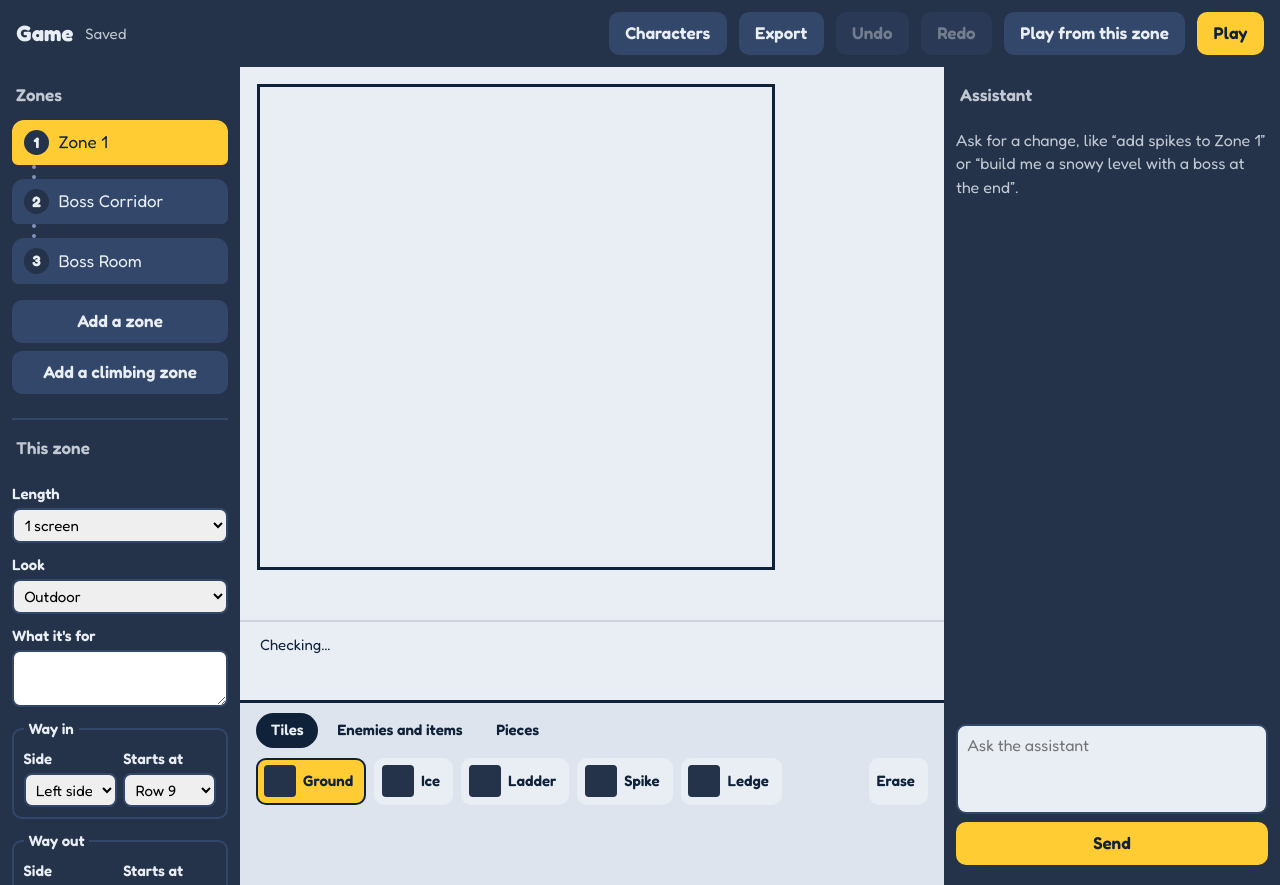
Scenario: the assistant in the editor › locks the level while it works, and Stop puts the level back
Type "Add spikes" into the text box named "Message" at (1112, 769), box [956,724,1268,814]
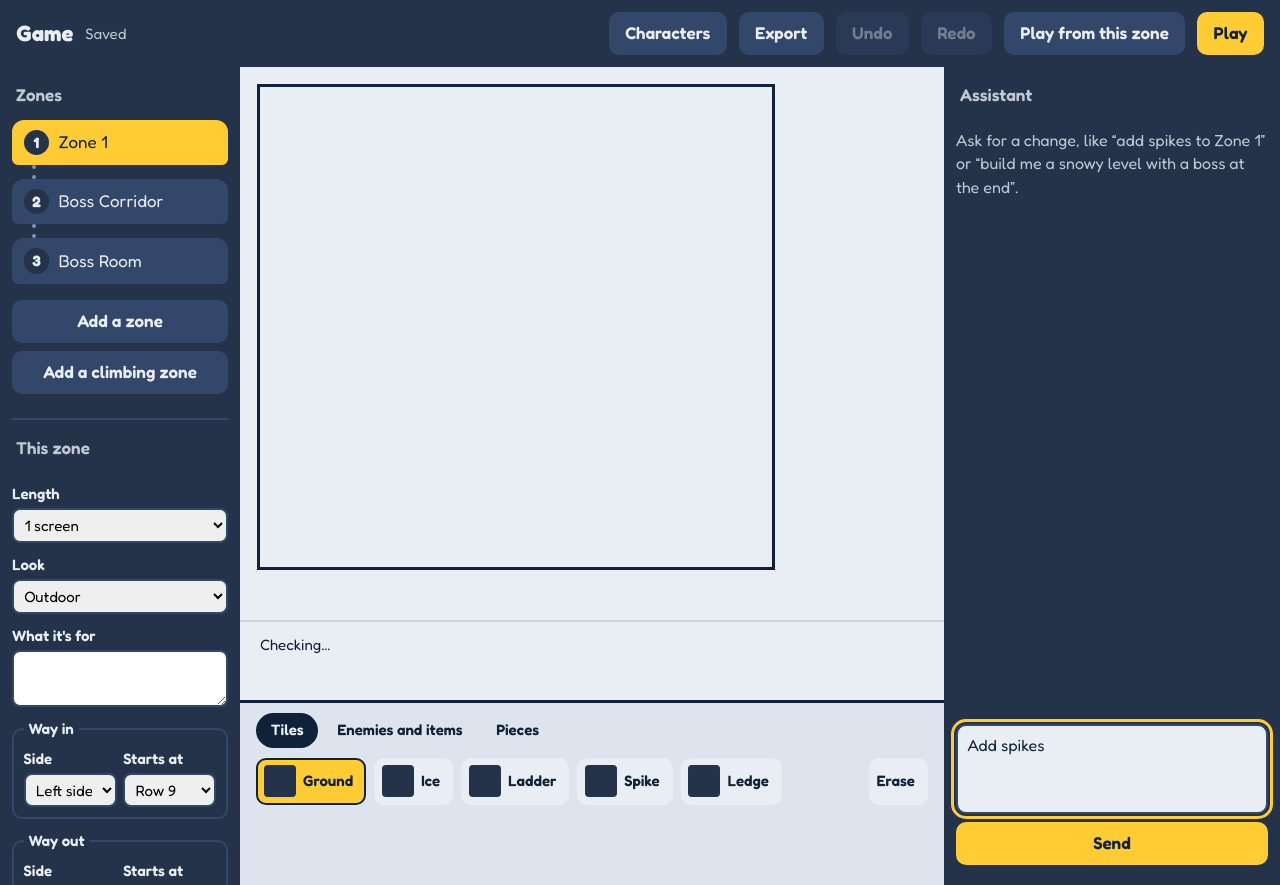
Click the button "Send" at (1112, 843), box [956,822,1268,865]
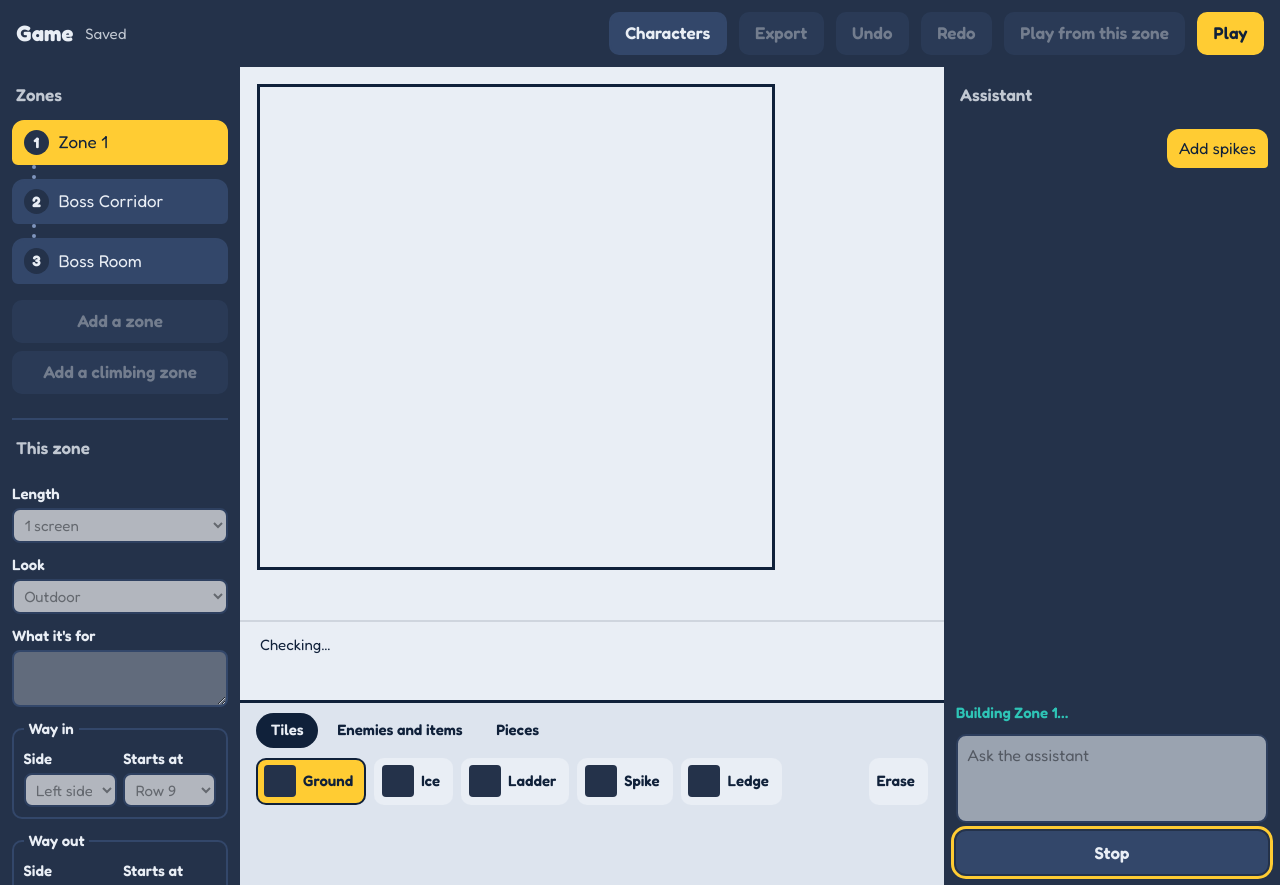
Now the text "Building Zone 1…" is shown, box [956,704,1068,722]
Now the button "Add a zone" is disabled, box [12,300,228,343]
Now the button "Export" is disabled, box [739,12,824,55]
Click the button "Stop" at (1112, 853), box [956,831,1268,874]
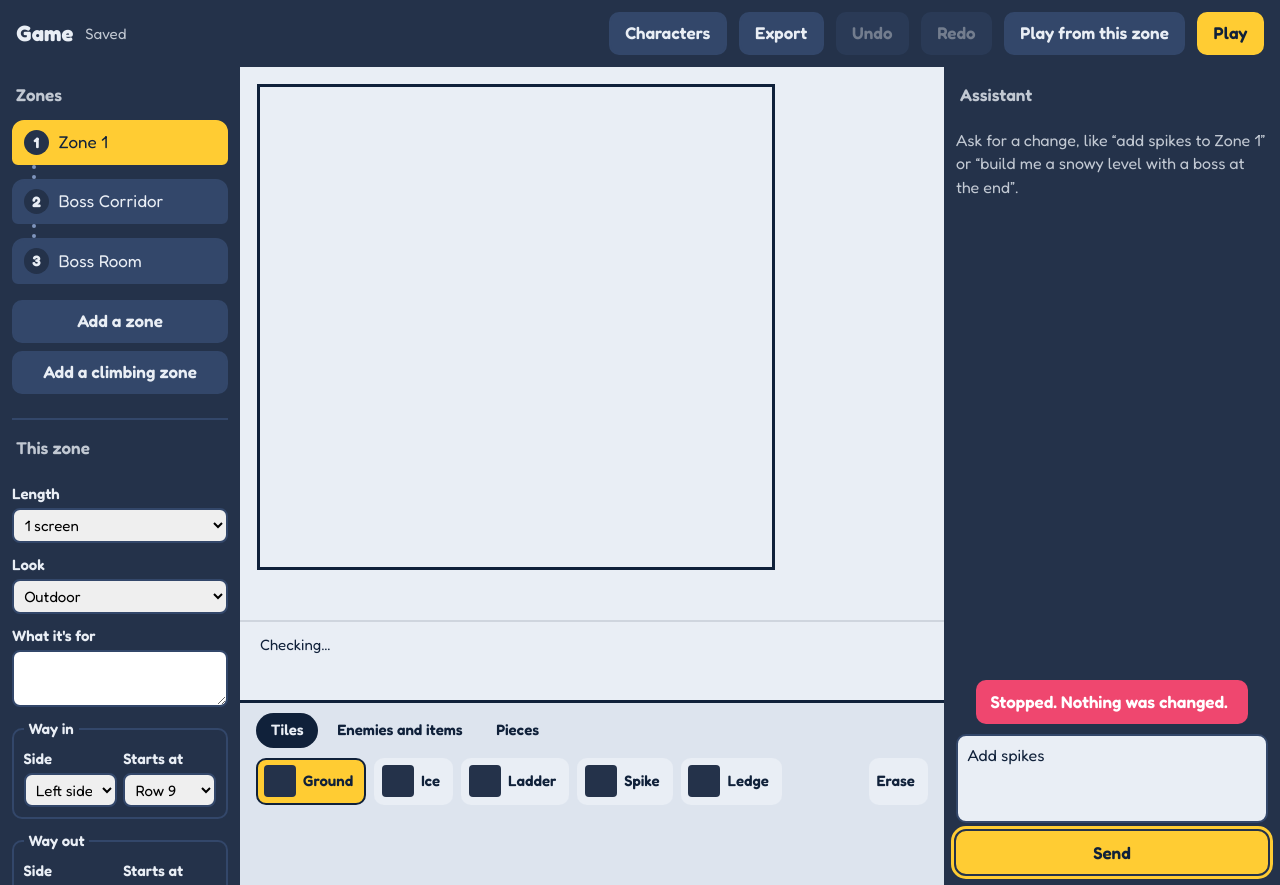
Expected: the button "Undo" is disabled, [836,12,909,55]
Now the message "Stopped. Nothing was changed." is shown, box [976,680,1248,724]
